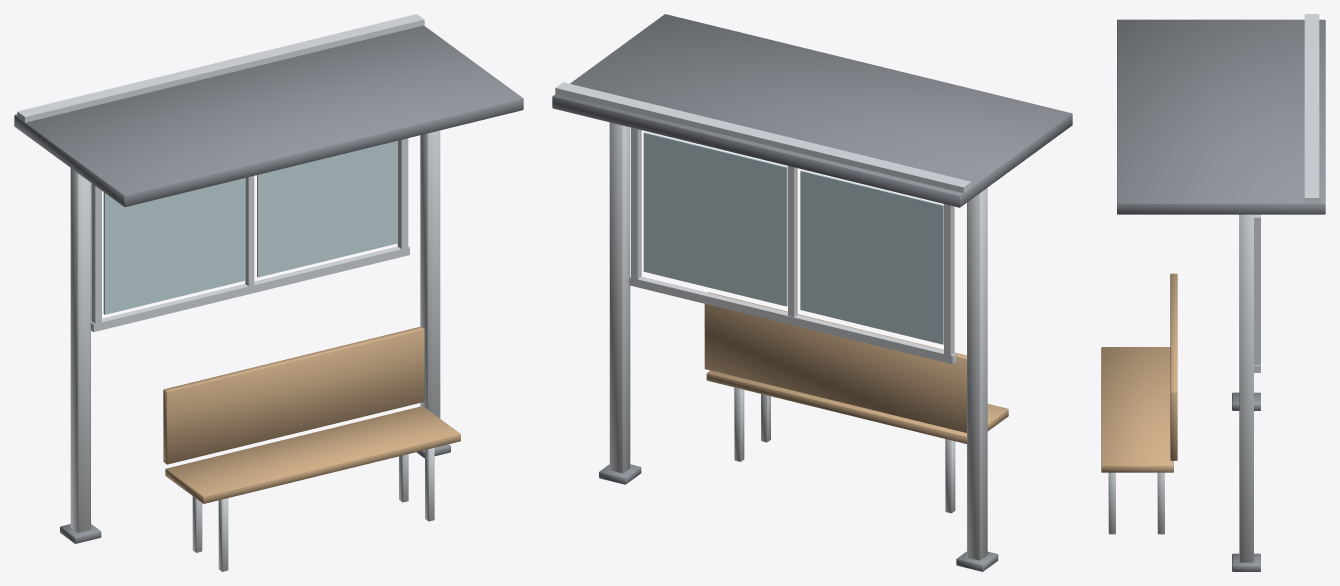
The model's file is BusStop_Curbside.fbx.
3 renders of one model, left to right at view 1: azimuth 30°, elevation 25°; view 2: azimuth 150°, elevation 25°; view 3: azimuth 270°, elevation 25°, orthographic. The views are drawn at different scales.
Parts seen in each view (by area): view 1: LOD0; view 2: LOD0; view 3: LOD0.
Part boxes in pixels (box(x1,y1,x2,y2)): LOD0: box(14, 14, 523, 571); LOD0: box(552, 14, 1072, 571); LOD0: box(1101, 14, 1325, 571).
Size of what is drawn, in the model's own units: 240 by 231 by 124.
